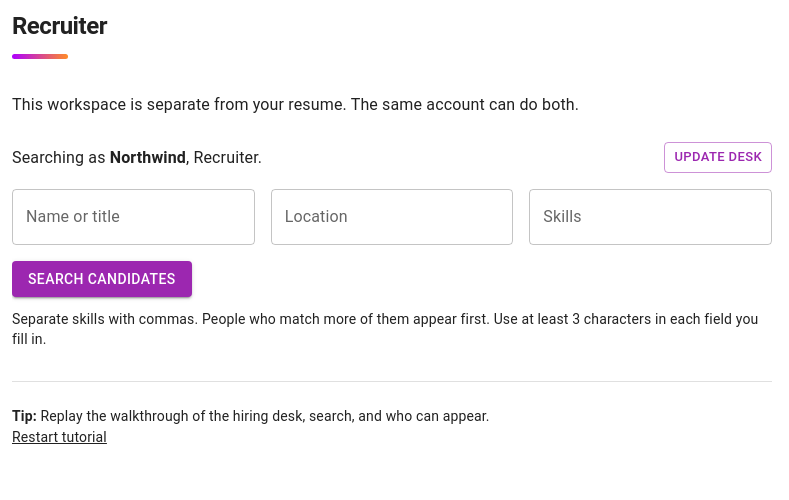
RecruiterWorkspace › rejects a search shorter than 3 characters
The width and height of the screenshot is (789, 500).
Type "JS" into the field labelled "Skills" at x=651, y=217, box [529,189,772,245]
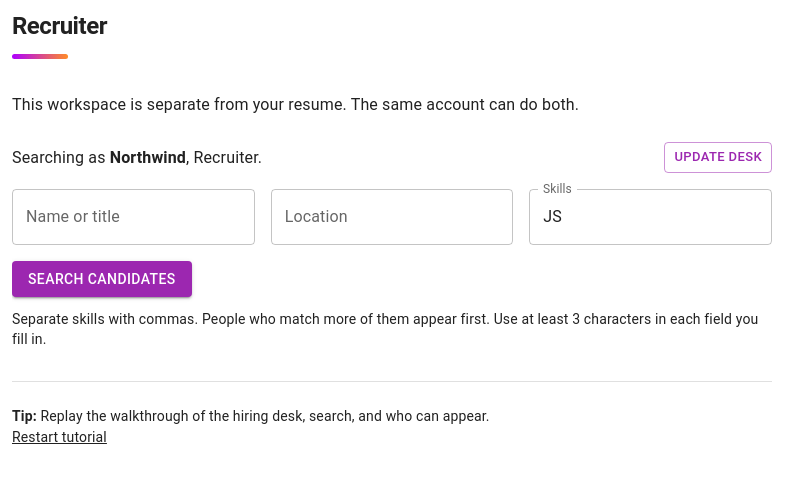
Click the button "Search candidates" at x=102, y=279, box [12,261,192,298]
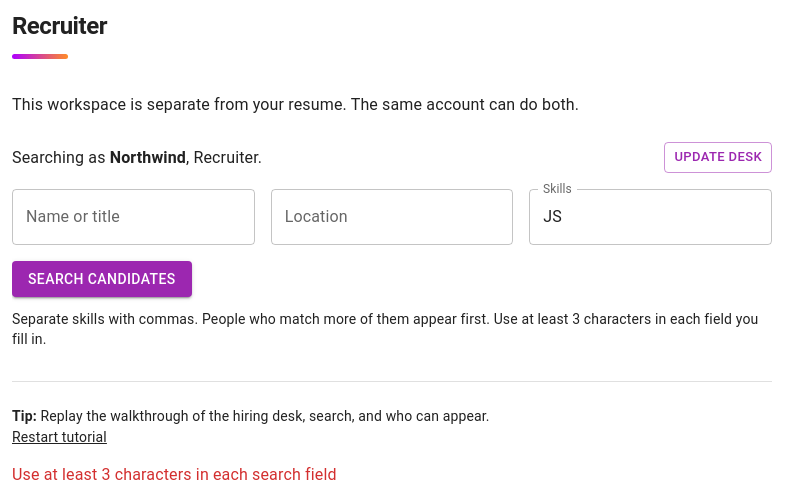
Result: the message reads "Use at least 3 characters in each search field" at [12,464,337,484]
